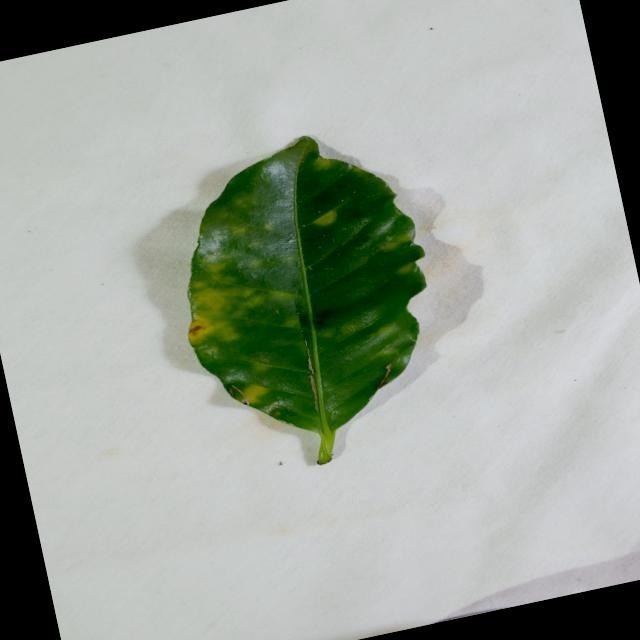KaratDaunKopi: (188, 318, 220, 346), (232, 384, 268, 405), (313, 210, 336, 224)
